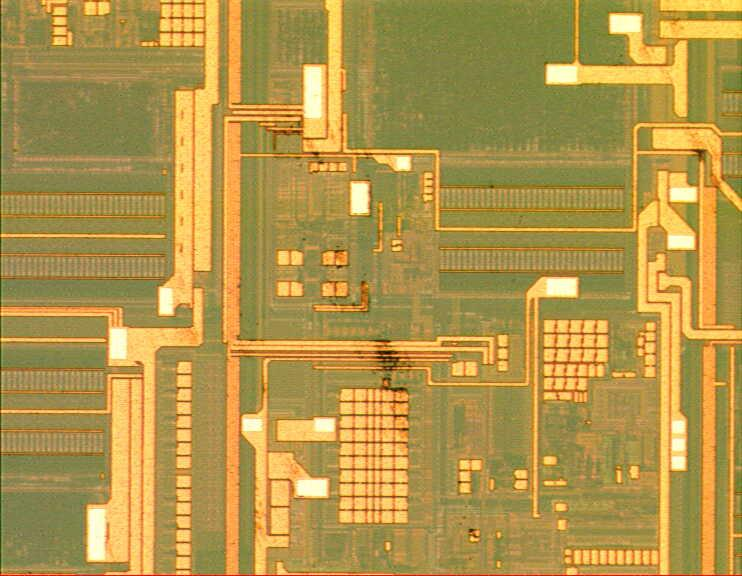PARTICLE: (262, 103, 734, 481)
